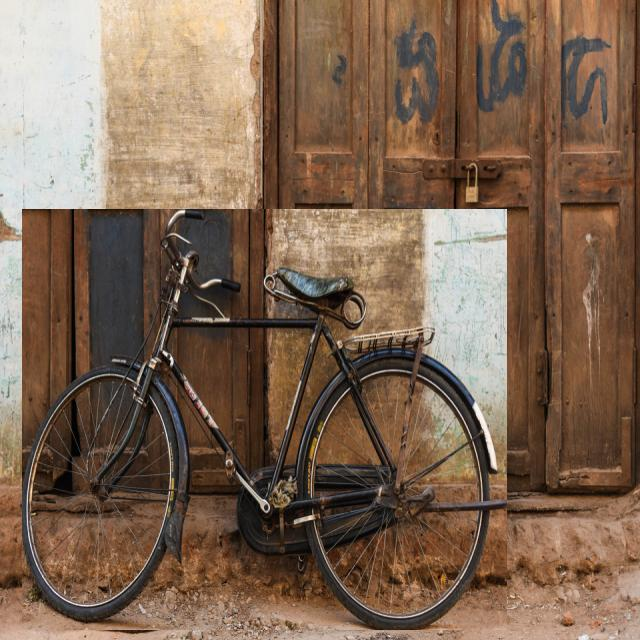bicycle: (22, 209, 506, 630)
